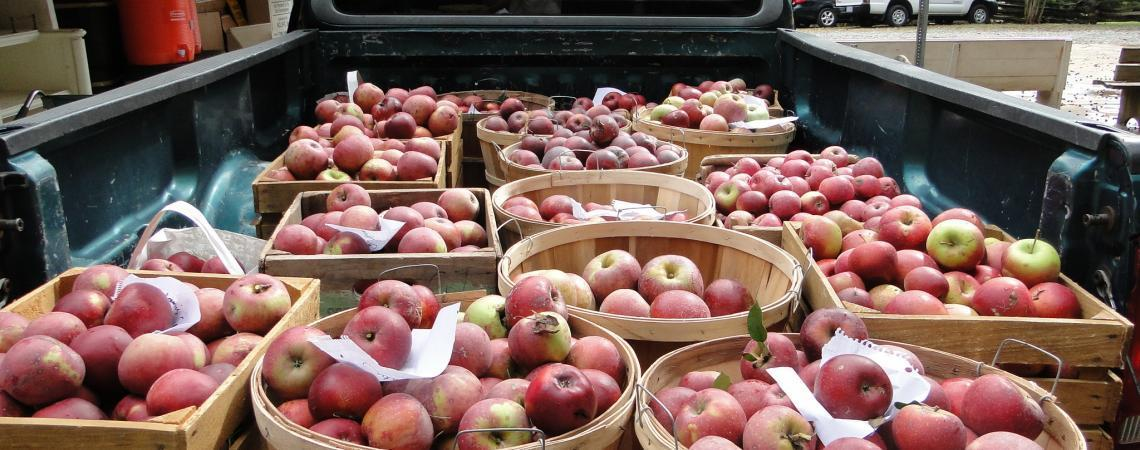apple: (814, 352, 893, 423), (404, 363, 485, 429), (1, 335, 84, 399), (962, 375, 1045, 438), (262, 325, 336, 394), (344, 305, 414, 370), (116, 330, 195, 387), (307, 362, 382, 421), (358, 279, 439, 331), (223, 275, 290, 336), (361, 394, 435, 449), (674, 386, 745, 441), (103, 283, 173, 336), (635, 253, 702, 301), (926, 218, 985, 271), (744, 408, 817, 449), (582, 249, 641, 295), (1002, 238, 1059, 284), (969, 277, 1033, 317), (877, 204, 931, 250), (1026, 281, 1078, 320), (465, 296, 508, 337)
